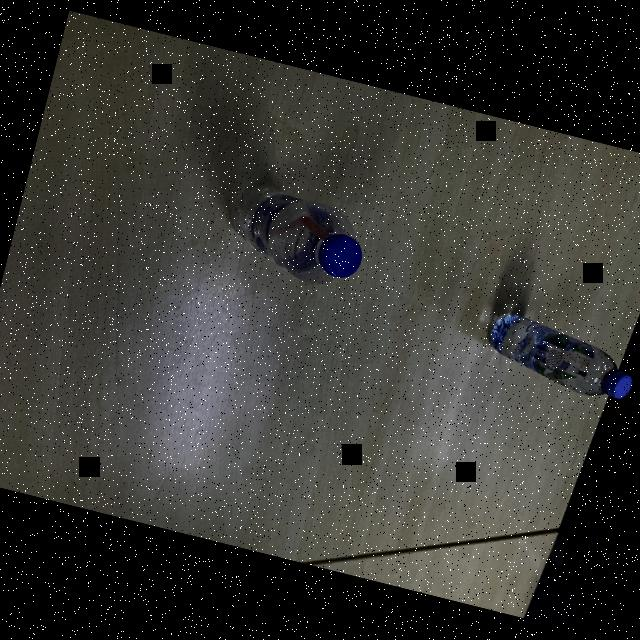plastic_bottle: (218, 178, 372, 294), (474, 307, 640, 406)
plastic_bottle_cap: (312, 229, 366, 282), (599, 364, 634, 402)
